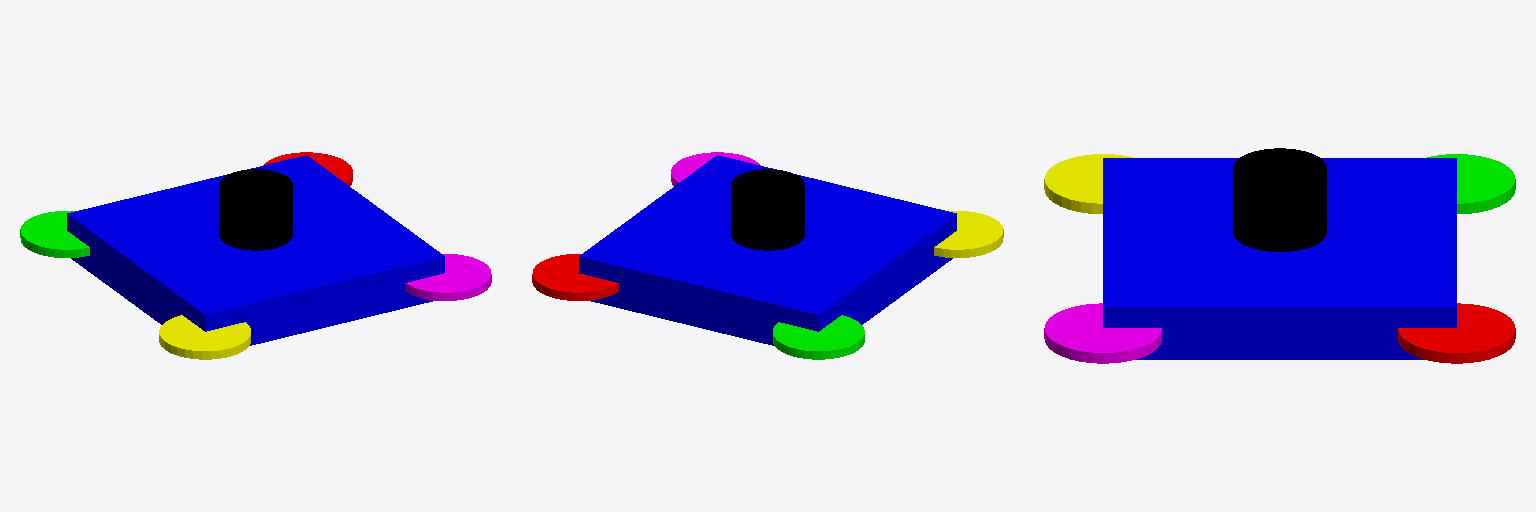
robot.urdf — quadrotor:
<?xml version="1.0"?>
<robot name="quadrotor">

  <!-- Base link -->
  <link name="base_link">
    <visual>
      <geometry><box size="0.3 0.3 0.05"/></geometry>
      <material name="blue"><color rgba="0 0 1 1"/></material>
    </visual>
    <collision><geometry><box size="0.3 0.3 0.05"/></geometry></collision>
    <inertial>
      <mass value="1.0"/>
      <origin xyz="0 0 0" rpy="0 0 0"/>
      <inertia ixx="0.01" iyy="0.01" izz="0.02" ixy="0" ixz="0" iyz="0"/>
    </inertial>
  </link>

  <!-- Propeller 1~4 -->
  <link name="propeller_1">
    <visual><geometry><cylinder radius="0.05" length="0.01"/></geometry><material name="red"><color rgba="1 0 0 1"/></material></visual>
    <collision><geometry><cylinder radius="0.05" length="0.01"/></geometry></collision>
    <inertial><mass value="0.01"/><origin xyz="0 0 0"/><inertia ixx="0.0001" iyy="0.0001" izz="0.0002" ixy="0" ixz="0" iyz="0"/></inertial>
  </link>
  <link name="propeller_2">
    <visual><geometry><cylinder radius="0.05" length="0.01"/></geometry><material name="green"><color rgba="0 1 0 1"/></material></visual>
    <collision><geometry><cylinder radius="0.05" length="0.01"/></geometry></collision>
    <inertial><mass value="0.01"/><origin xyz="0 0 0"/><inertia ixx="0.0001" iyy="0.0001" izz="0.0002" ixy="0" ixz="0" iyz="0"/></inertial>
  </link>
  <link name="propeller_3">
    <visual><geometry><cylinder radius="0.05" length="0.01"/></geometry><material name="yellow"><color rgba="1 1 0 1"/></material></visual>
    <collision><geometry><cylinder radius="0.05" length="0.01"/></geometry></collision>
    <inertial><mass value="0.01"/><origin xyz="0 0 0"/><inertia ixx="0.0001" iyy="0.0001" izz="0.0002" ixy="0" ixz="0" iyz="0"/></inertial>
  </link>
  <link name="propeller_4">
    <visual><geometry><cylinder radius="0.05" length="0.01"/></geometry><material name="purple"><color rgba="1 0 1 1"/></material></visual>
    <collision><geometry><cylinder radius="0.05" length="0.01"/></geometry></collision>
    <inertial><mass value="0.01"/><origin xyz="0 0 0"/><inertia ixx="0.0001" iyy="0.0001" izz="0.0002" ixy="0" ixz="0" iyz="0"/></inertial>
  </link>

  <!-- LIDAR -->
  <link name="lidar_link">
    <visual><geometry><cylinder radius="0.04" length="0.06"/></geometry><material name="black"><color rgba="0 0 0 1"/></material></visual>
    <collision><geometry><cylinder radius="0.04" length="0.06"/></geometry></collision>
    <inertial><mass value="0.05"/><origin xyz="0 0 0"/><inertia ixx="0.0002" iyy="0.0002" izz="0.0001" ixy="0" ixz="0" iyz="0"/></inertial>
  </link>



  <!-- 关节 -->
  <joint name="base_to_propeller_1" type="fixed"><parent link="base_link"/><child link="propeller_1"/><origin xyz="0.15 0.15 0"/><axis xyz="0 0 1"/></joint>
  <joint name="base_to_propeller_2" type="fixed"><parent link="base_link"/><child link="propeller_2"/><origin xyz="-0.15 0.15 0"/><axis xyz="0 0 1"/></joint>
  <joint name="base_to_propeller_3" type="fixed"><parent link="base_link"/><child link="propeller_3"/><origin xyz="-0.15 -0.15 0"/><axis xyz="0 0 1"/></joint>
  <joint name="base_to_propeller_4" type="fixed"><parent link="base_link"/><child link="propeller_4"/><origin xyz="0.15 -0.15 0"/><axis xyz="0 0 1"/></joint>

  <!-- Lidar +Z -->
  <joint name="base_to_lidar" type="fixed"><parent link="base_link"/><child link="lidar_link"/><origin xyz="0 0 0.055"/></joint>
  
  <!-- ===================== Gazebo：LIDAR ===================== -->
  <gazebo reference="lidar_link">
    <sensor name="lidar_sensor" type="ray">
      <always_on>true</always_on>
      <update_rate>15</update_rate>
      <visualize>true</visualize>
      <pose>0 0 0 0 0 0</pose>

      <!--  270 ，1080  -->
      <ray>
        <scan>
          <horizontal>
            <samples>1080</samples>
            <resolution>1</resolution>
            <min_angle>-2.35619</min_angle>  <!-- -135° -->
            <max_angle> 2.35619</max_angle>  <!-- +135° -->
          </horizontal>
        </scan>
        <range>
          <min>0.12</min>
          <max>12.0</max>
          <resolution>0.01</resolution>
        </range>
        <noise>
          <type>gaussian</type>
          <mean>0.0</mean>
          <stddev>0.01</stddev>
        </noise>
      </ray>

      <!-- ROS2 pub LaserScan（/lidar/scan） -->
      <plugin name="lidar_ros" filename="libgazebo_ros_ray_sensor.so">
        <ros>
          <namespace>/lidar</namespace>
          <remapping>~/out:=/scan</remapping>
        </ros>
        <frame_name>lidar_link</frame_name>
        <output_type>sensor_msgs/LaserScan</output_type>
        <topic>scan</topic>
      </plugin>
    </sensor>
  </gazebo>

  

<gazebo>
  <plugin name="planar_move" filename="libgazebo_ros_planar_move.so">
    <ros>
      <namespace>/</namespace>
    </ros>
    <command_topic>/cmd_vel</command_topic>
    <odometry_frame>odom</odometry_frame>
    <odometry_topic>odom</odometry_topic>
    <robot_base_frame>base_link</robot_base_frame>
    <publish_odom>true</publish_odom>
    <update_rate>50</update_rate>
  </plugin>
</gazebo>

</robot>

--- Facts derived from the render (not from the file) ---
Views: 3 orthographic renders of the robot side by side, from view 1: azimuth 30°, elevation 25°; view 2: azimuth 150°, elevation 25°; view 3: azimuth 270°, elevation 25°.
Robot: quadrotor — 6 links, 5 joints (5 fixed); root link base_link; default pose: every joint at zero.
Visible links, largest first — view 1: base_link, lidar_link, propeller_3, propeller_4, propeller_2, propeller_1; view 2: base_link, lidar_link, propeller_2, propeller_1, propeller_3, propeller_4; view 3: base_link, lidar_link, propeller_1, propeller_4, propeller_2, propeller_3.
Link boxes in pixels (x1,y1,x2,y2): base_link: (67,155,444,345); lidar_link: (219,169,292,250); propeller_3: (159,315,250,359); propeller_4: (405,254,491,300); propeller_2: (20,211,89,257); propeller_1: (263,152,352,185); base_link: (579,155,956,345); lidar_link: (731,169,804,250); propeller_2: (773,315,864,359); propeller_1: (532,254,618,300); propeller_3: (934,211,1003,257); propeller_4: (671,152,760,185); base_link: (1103,158,1456,359); lidar_link: (1233,148,1326,251); propeller_1: (1398,303,1515,363); propeller_4: (1044,303,1161,363); propeller_2: (1427,154,1515,213); propeller_3: (1044,154,1132,213).
Size in the robot's own frame: 0.4 by 0.4 by 0.11 metres.
Geometry: primitives only (box / cylinder / sphere), no mesh files.
